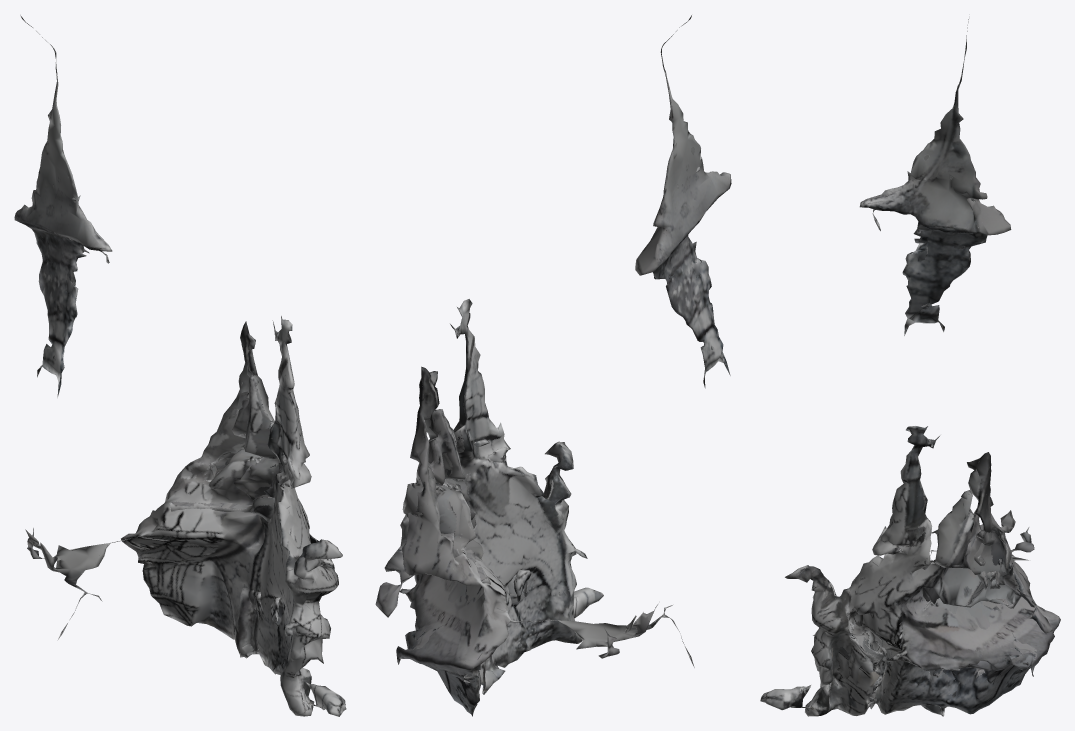
File: sample (8)-17-35-11.fbx
3 renders of one model, left to right at view 1: azimuth 30°, elevation 25°; view 2: azimuth 150°, elevation 25°; view 3: azimuth 270°, elevation 25°, orthographic. The views are drawn at different scales.
Parts seen in each view (by area): view 1: lowpoly; view 2: lowpoly; view 3: lowpoly.
Boxes of the visible parts, x1,y1,x2,y2 form: lowpoly: (14, 15, 346, 716); lowpoly: (375, 15, 731, 716); lowpoly: (760, 19, 1060, 716).
Size of the model in its own units: 80.01 by 187 by 83.07.
1 material, 1 textured.
